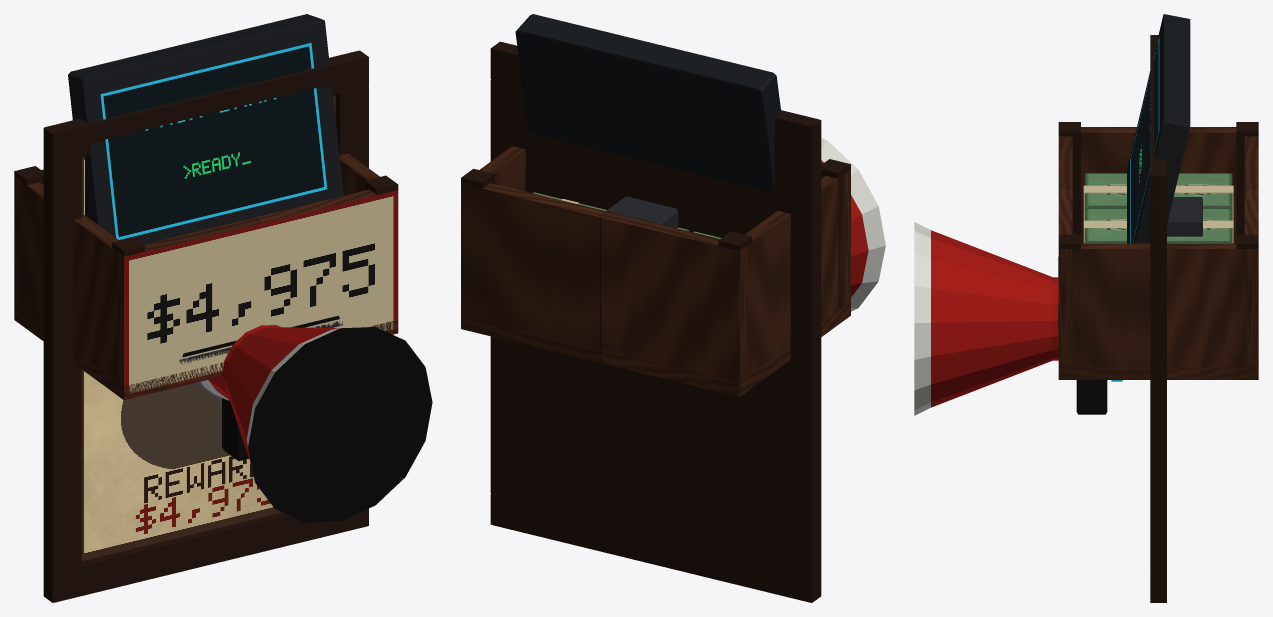
File: PROPS_own.glb
3 views of the same model, side by side, from view 1: azimuth 30°, elevation 25°; view 2: azimuth 150°, elevation 25°; view 3: azimuth 270°, elevation 25° (orthographic). The views are drawn at different scales.
Visible parts, largest first — view 1: PROP_WantedPoster, PROP_CashHeist, PROP_Terminal, PROP_Megaphone; view 2: PROP_WantedPoster, PROP_CashHeist, PROP_Terminal, PROP_Megaphone; view 3: PROP_CashHeist, PROP_Megaphone, PROP_Terminal, PROP_WantedPoster, PROP_CashHeist_Bundle.07, PROP_CashHeist_Bundle.06, PROP_CashHeist_Bundle.08, PROP_CashHeist_Bundle.09.
Part boxes in pixels (left/top/right/bottom): PROP_WantedPoster: left=43, top=50, right=368, bottom=602; PROP_CashHeist: left=14, top=153, right=398, bottom=400; PROP_Terminal: left=68, top=14, right=343, bottom=364; PROP_Megaphone: left=197, top=325, right=432, bottom=522; PROP_WantedPoster: left=490, top=41, right=821, bottom=602; PROP_CashHeist: left=461, top=146, right=850, bottom=396; PROP_Terminal: left=515, top=14, right=781, bottom=228; PROP_Megaphone: left=821, top=138, right=885, bottom=311; PROP_CashHeist: left=1058, top=122, right=1258, bottom=379; PROP_Megaphone: left=914, top=222, right=1122, bottom=415; PROP_Terminal: left=1058, top=14, right=1202, bottom=326; PROP_WantedPoster: left=1150, top=35, right=1166, bottom=602; PROP_CashHeist_Bundle.07: left=1173, top=173, right=1233, bottom=220; PROP_CashHeist_Bundle.06: left=1083, top=173, right=1126, bottom=220; PROP_CashHeist_Bundle.08: left=1083, top=208, right=1126, bottom=243; PROP_CashHeist_Bundle.09: left=1167, top=208, right=1233, bottom=243.
Size of the model in its own units: 0.6 by 0.9266 by 0.62.
3 materials, 3 textured.
